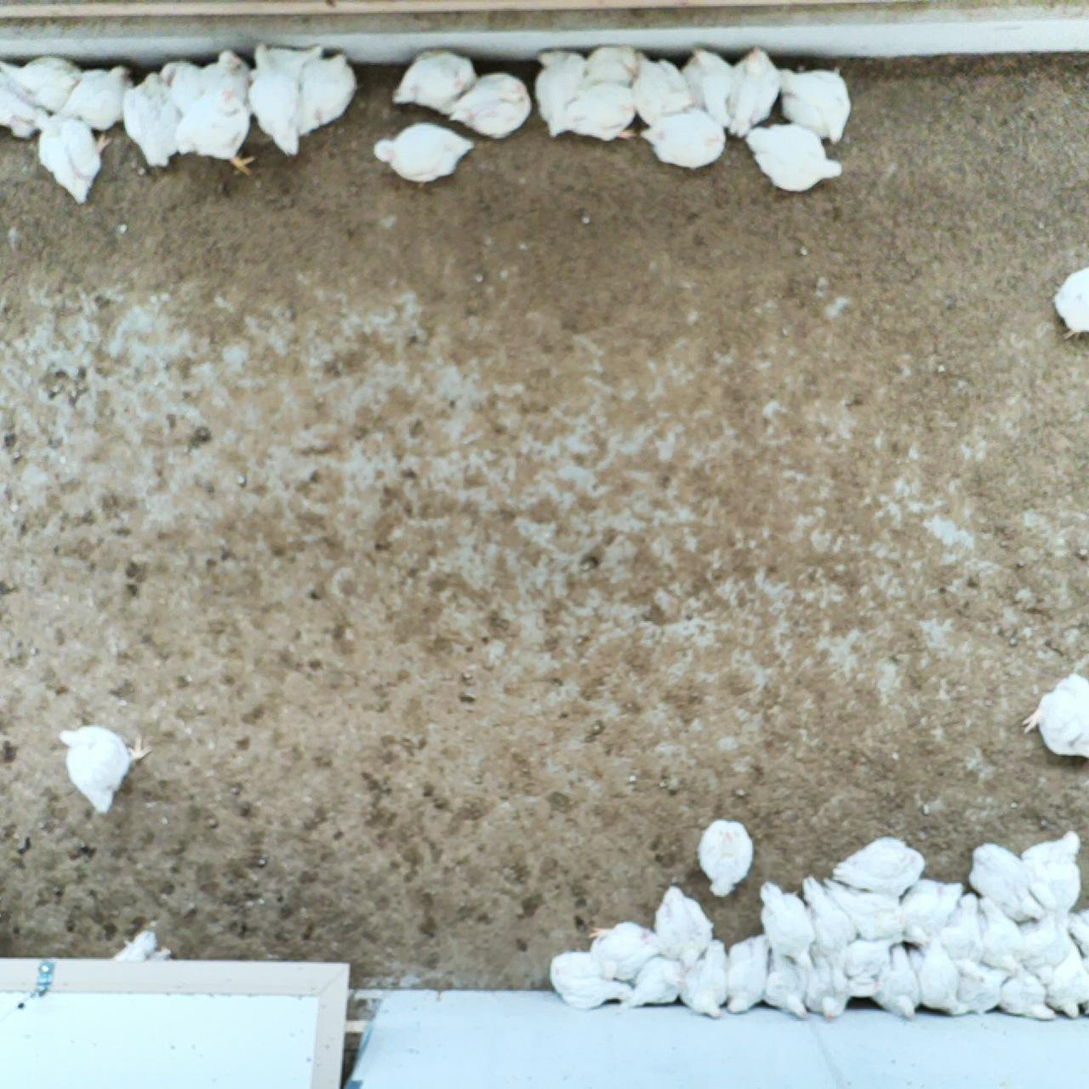chicken: (58, 722, 151, 812), (31, 106, 111, 197), (177, 89, 258, 176), (747, 126, 844, 195), (968, 841, 1042, 925), (125, 71, 187, 168), (375, 123, 473, 184), (775, 66, 852, 141), (251, 43, 303, 154), (394, 48, 479, 115), (821, 877, 914, 938), (832, 837, 931, 894), (452, 72, 533, 141), (711, 931, 778, 1012), (1027, 673, 1089, 759), (300, 53, 364, 134), (724, 49, 782, 136), (529, 48, 587, 135), (654, 888, 717, 968), (759, 883, 817, 969), (643, 107, 726, 166), (555, 84, 641, 140), (1025, 830, 1083, 913), (1, 55, 90, 109), (550, 951, 634, 1007), (833, 935, 906, 998), (897, 878, 965, 945), (630, 53, 694, 124), (59, 66, 134, 126), (802, 877, 859, 954), (678, 935, 730, 1018), (698, 820, 754, 896), (1019, 914, 1078, 986), (590, 917, 661, 975), (978, 893, 1027, 974), (872, 942, 921, 1022), (803, 947, 858, 1018), (681, 47, 735, 117), (253, 39, 328, 88), (998, 961, 1058, 1022), (197, 51, 255, 113), (759, 948, 811, 1017), (946, 961, 1013, 1014), (937, 891, 983, 966), (915, 938, 961, 1012), (157, 57, 215, 109), (585, 44, 648, 90), (1046, 953, 1089, 1020), (0, 83, 53, 136), (631, 957, 686, 1007), (1053, 265, 1089, 340), (111, 929, 175, 962), (1068, 904, 1089, 960)
